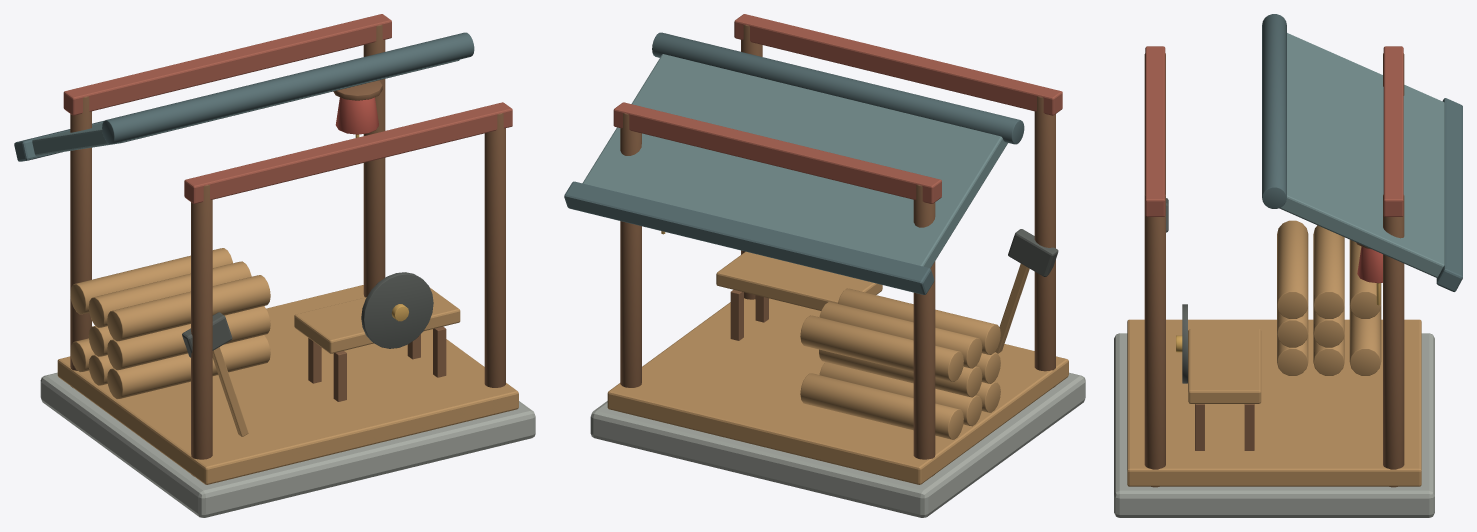
File: building_lumber_open.glb
The picture shows the model from 3 angles, left to right: view 1: azimuth 30°, elevation 25°; view 2: azimuth 150°, elevation 25°; view 3: azimuth 270°, elevation 25°; orthographic projection.
Parts seen in each view (by area): view 1: RaisedFloor.002, Foundation.002, RoofRidge.002, TopBeam.004, TopBeam.005, TimberPost.010, TimberPost.008, LogStack.005, TimberPost.009, SawBlade, LogStack, TimberPost.011 (+11 smaller); view 2: RaisedFloor.002, Foundation.002, RearEave.002, TopBeam.005, TopBeam.004, RoofRidge.002, TimberPost.008, WorkTableTop.001, TimberPost.009, LogStack.002, LogStack.007, TimberPost.011 (+61 smaller); view 3: RaisedFloor.002, Foundation.002, TimberPost.010, WorkTableTop.001, TimberPost.011, RoofRidge.002, RearEave.002, TopBeam.004, TopBeam.005, LogStack.005, LogStack.006, LogStack.002 (+53 smaller).
Boxes of the visible parts, x1=… form: RaisedFloor.002: x1=57, y1=285, x2=518, y2=484; Foundation.002: x1=40, y1=372, x2=535, y2=517; RoofRidge.002: x1=102, y1=32, x2=474, y2=144; TopBeam.004: x1=184, y1=102, x2=512, y2=203; TopBeam.005: x1=63, y1=14, x2=391, y2=115; TimberPost.010: x1=484, y1=113, x2=505, y2=387; TimberPost.008: x1=191, y1=185, x2=212, y2=475; LogStack.005: x1=107, y1=275, x2=270, y2=341; TimberPost.009: x1=70, y1=96, x2=91, y2=387; SawBlade: x1=361, y1=272, x2=433, y2=348; LogStack: x1=107, y1=335, x2=270, y2=399; TimberPost.011: x1=363, y1=25, x2=385, y2=297; RaisedFloor.002: x1=607, y1=298, x2=1068, y2=484; Foundation.002: x1=590, y1=372, x2=1085, y2=517; RearEave.002: x1=564, y1=181, x2=934, y2=294; TopBeam.005: x1=613, y1=102, x2=941, y2=203; TopBeam.004: x1=734, y1=14, x2=1062, y2=115; RoofRidge.002: x1=652, y1=32, x2=1024, y2=144; TimberPost.008: x1=1034, y1=96, x2=1055, y2=387; WorkTableTop.001: x1=716, y1=251, x2=882, y2=310; TimberPost.009: x1=913, y1=185, x2=935, y2=476; LogStack.002: x1=800, y1=373, x2=963, y2=439; LogStack.007: x1=800, y1=315, x2=963, y2=381; TimberPost.011: x1=620, y1=113, x2=641, y2=387; RaisedFloor.002: x1=1127, y1=319, x2=1421, y2=486; Foundation.002: x1=1114, y1=333, x2=1434, y2=517; TimberPost.010: x1=1144, y1=194, x2=1165, y2=487; WorkTableTop.001: x1=1188, y1=329, x2=1261, y2=403; TimberPost.011: x1=1383, y1=194, x2=1404, y2=487; RoofRidge.002: x1=1262, y1=14, x2=1286, y2=208; RearEave.002: x1=1436, y1=98, x2=1462, y2=291; TopBeam.004: x1=1145, y1=46, x2=1165, y2=216; TopBeam.005: x1=1383, y1=46, x2=1403, y2=216; LogStack.005: x1=1277, y1=220, x2=1308, y2=318; LogStack.006: x1=1313, y1=225, x2=1344, y2=318; LogStack.002: x1=1349, y1=305, x2=1381, y2=375.
Size of the model in its own units: 2.48 by 2.26 by 2.11.
